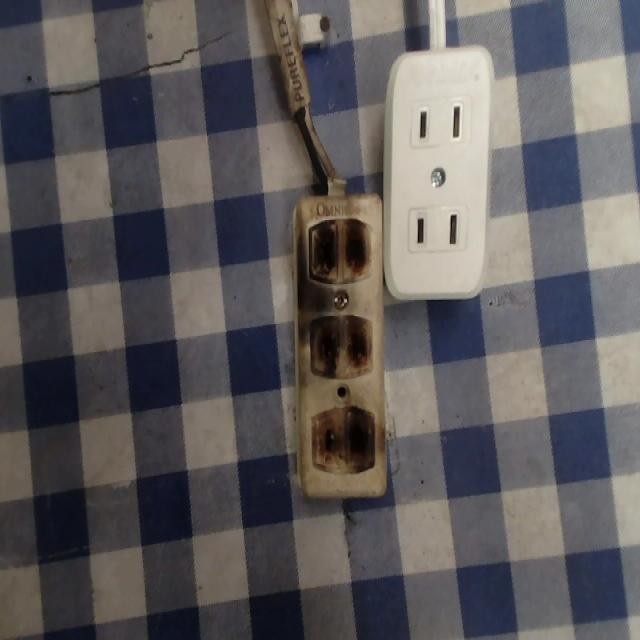-: (302, 211, 378, 288), (309, 404, 381, 481), (310, 314, 376, 382)
